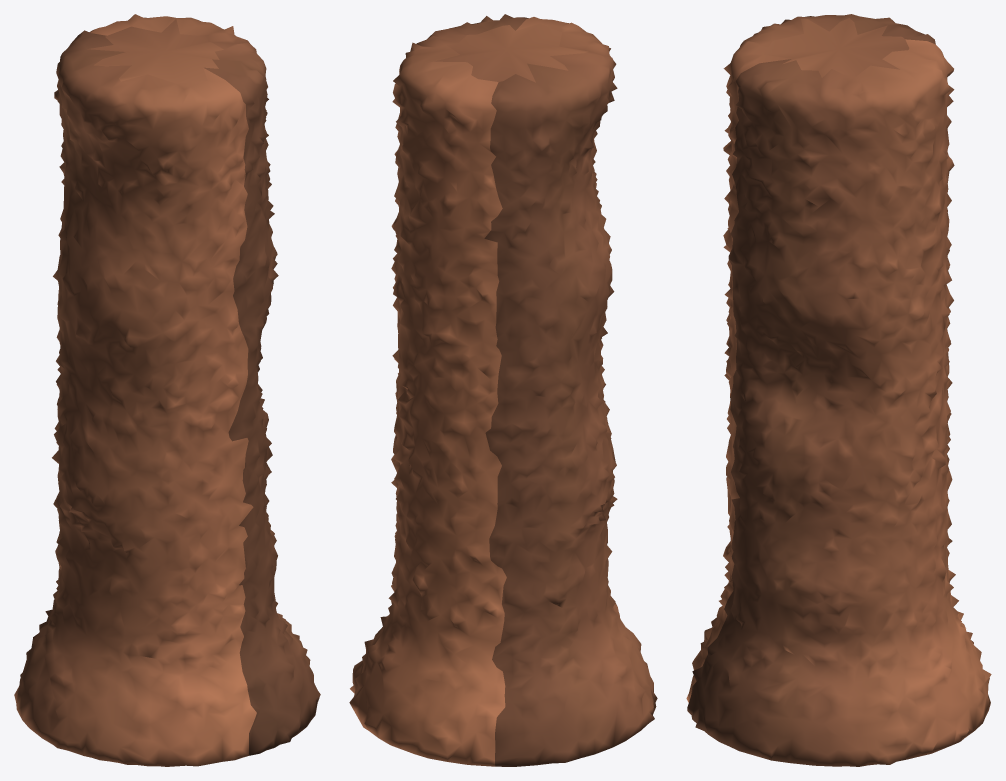
File: Tree.fbx
The picture shows the model from 3 angles, left to right: view 1: azimuth 30°, elevation 25°; view 2: azimuth 150°, elevation 25°; view 3: azimuth 270°, elevation 25°; orthographic projection.
Parts seen in each view (by area): view 1: Cylinder; view 2: Cylinder; view 3: Cylinder.
Boxes of the visible parts, x1,y1,x2,y2 form: Cylinder: [14, 14, 320, 766]; Cylinder: [349, 14, 657, 766]; Cylinder: [686, 14, 991, 766].
Size of the model in its own units: 28.95 by 68.95 by 29.13.
Materials: 1 (1 with a texture image).
